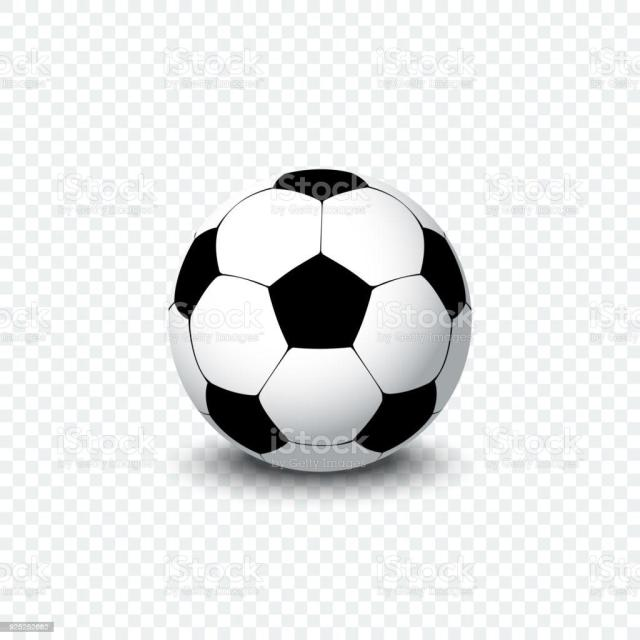Soccer Ball: (168, 169, 473, 478)
